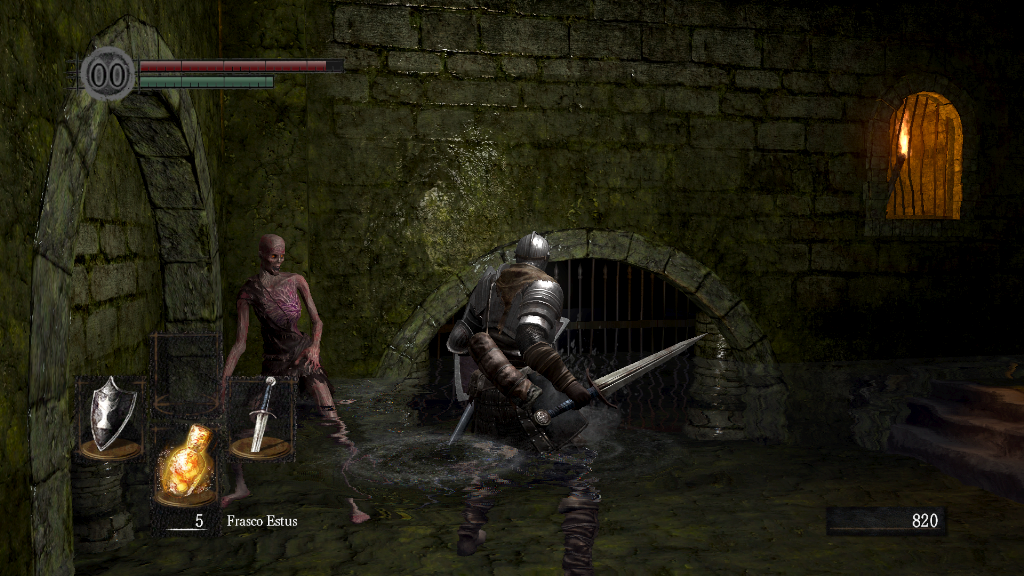health: (138, 58, 343, 71)
hollow: (215, 234, 375, 524)
humanity: (80, 45, 136, 102)
player: (447, 231, 711, 574)
souls: (825, 506, 945, 536)
stamina: (138, 74, 274, 88)
